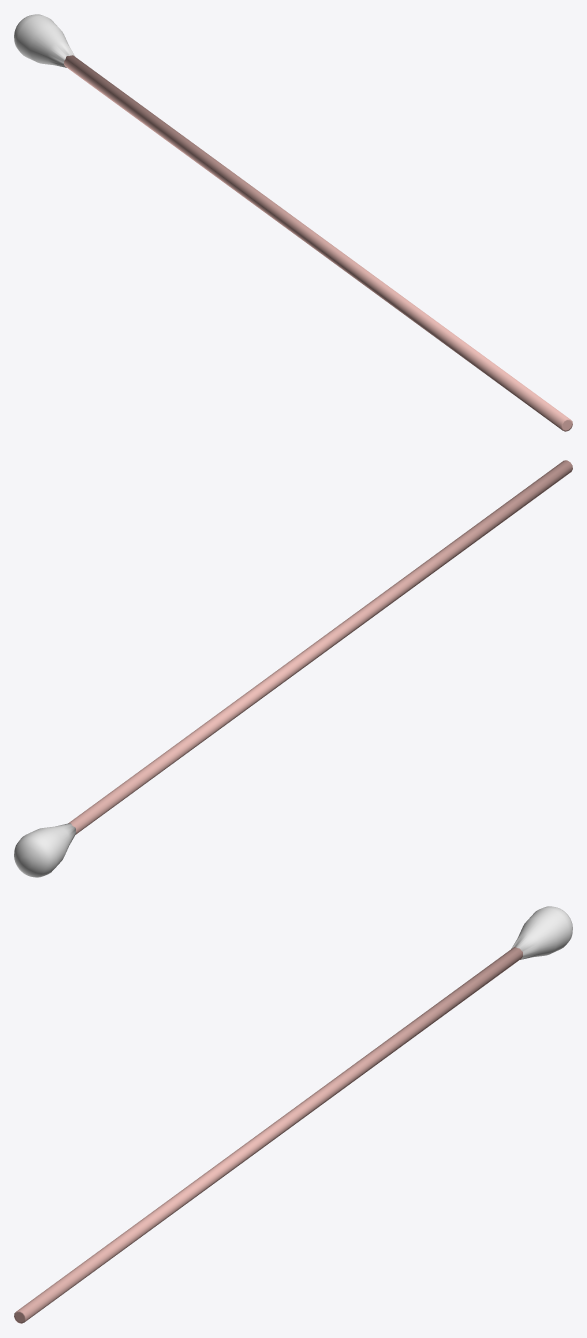
The model's file is CottonSwabStick.fbx.
The picture shows the model from 3 angles, top to bottom: view 1: azimuth 30°, elevation 25°; view 2: azimuth 150°, elevation 25°; view 3: azimuth 330°, elevation 25°; orthographic projection.
Visible parts, largest first — view 1: CottonSwabStick, CottonSwabHead; view 2: CottonSwabStick, CottonSwabHead; view 3: CottonSwabStick, CottonSwabHead.
Part boxes in pixels (box(x1,y1,x2,y2)): CottonSwabStick: box(64, 55, 572, 431); CottonSwabHead: box(14, 14, 74, 67); CottonSwabStick: box(68, 460, 572, 834); CottonSwabHead: box(14, 823, 76, 877); CottonSwabStick: box(14, 947, 522, 1323); CottonSwabHead: box(511, 906, 572, 959).
Bounding box in the file's own units: 0.00525 × 0.00525 × 0.1242.
